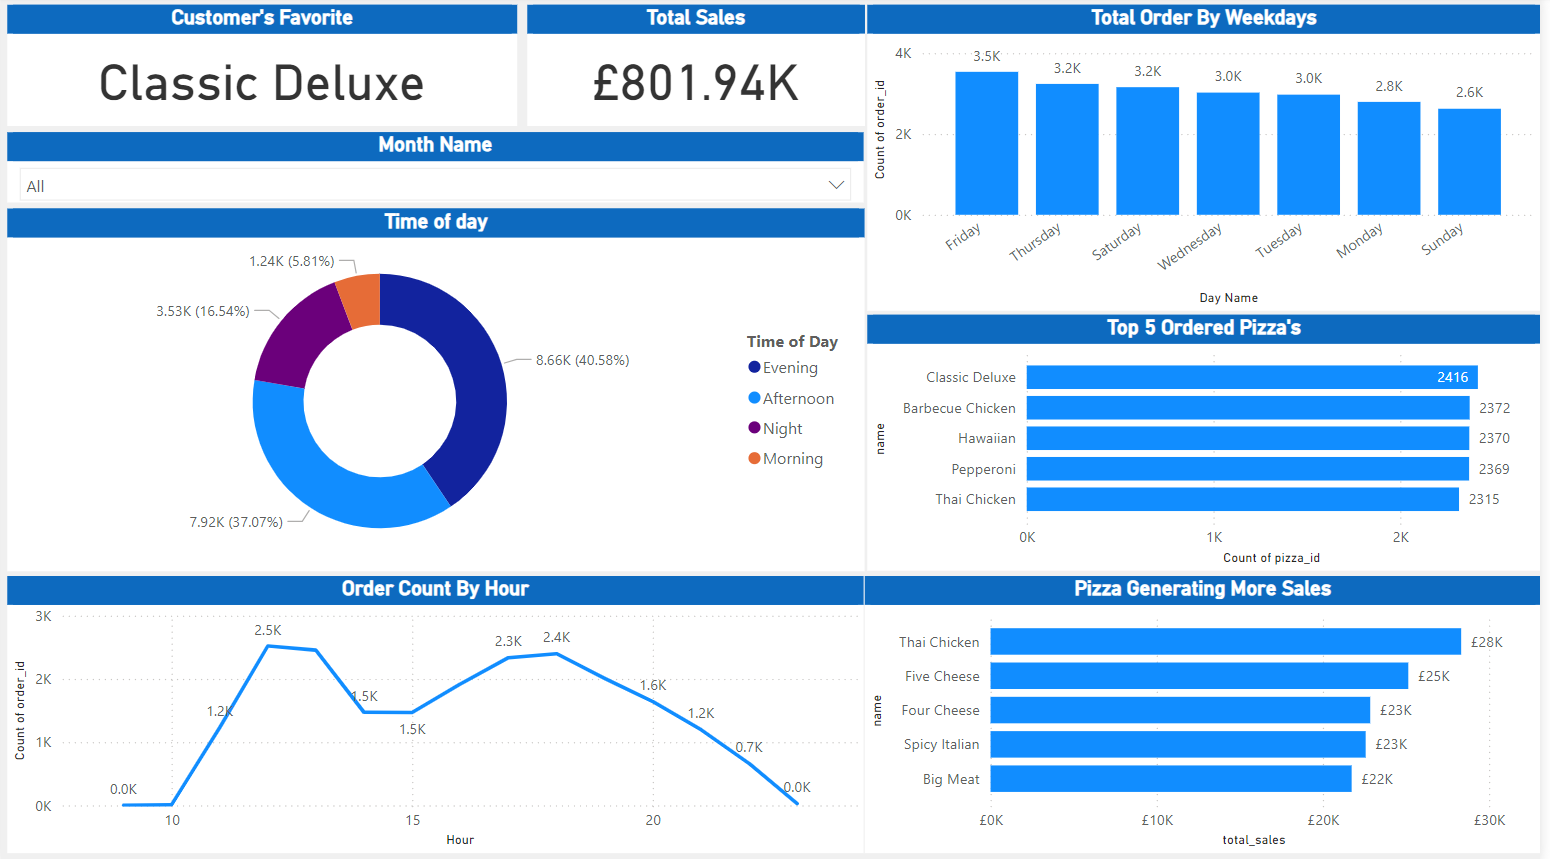

This screenshot's page, from the dashboard's own definition file:
{"tool":"powerbi","page":{"name":"Pizza Sales Dashboard","canvas":[1280,720],"ordinal":0},"visuals":[{"type":"lineChart","title":"Order Count By Hour","fields":{"Category":["orders.Hour"],"Y":["CountNonNull(orders.order_id)"]},"box":[5.2,482.2,711.9,230.7],"z":0},{"type":"columnChart","title":"Total Order By Weekdays","fields":{"Category":["orders.Day Name"],"Y":["CountNonNull(orders.order_id)"]},"box":[720.2,7.3,560.2,254.6],"z":1000},{"type":"card","title":"Total Sales","fields":{"Values":["order details.total_sales"]},"box":[437.5,7.3,280.6,100.8],"z":2000},{"type":"barChart","title":"Top 5 Ordered Pizza''s","fields":{"Category":["pizza types.name"],"Y":["CountNonNull(order details.pizza_id)"]},"box":[720.2,265,560.2,213],"z":3000},{"type":"donutChart","title":"Time of day","fields":{"Category":["orders.Time of Day"],"Y":["CountNonNull(orders.order_id)"]},"box":[5.2,176.7,712.9,301.4],"z":4000},{"type":"barChart","title":"Pizza Generating More Sales","fields":{"Category":["pizza types.name"],"Y":["order details.total_sales"]},"box":[718.1,482.2,562.2,230.7],"z":5000},{"type":"card","title":"Customer''s Favorite","fields":{"Values":["order details.TopPizzaName"]},"box":[5.2,7.3,424,100.8],"z":6000},{"type":"slicer","title":"Month Name","fields":{"Values":["orders.Month Name"]},"box":[5.2,113.3,711.9,58.2],"z":7000}]}

Visuals, with their boxes in screenshot pixels (x1, y1, x2, y2), scaled from the page's 1280x720 canvas onto the 1550x859 screenshot:
"Order Count By Hour" lineChart: BBox(6, 575, 868, 851)
"Total Order By Weekdays" columnChart: BBox(872, 9, 1549, 312)
"Total Sales" card: BBox(530, 9, 870, 129)
"Top 5 Ordered Pizza''s" barChart: BBox(872, 316, 1549, 570)
"Time of day" donutChart: BBox(6, 211, 870, 570)
"Pizza Generating More Sales" barChart: BBox(870, 575, 1549, 851)
"Customer''s Favorite" card: BBox(6, 9, 520, 129)
"Month Name" slicer: BBox(6, 135, 868, 205)
